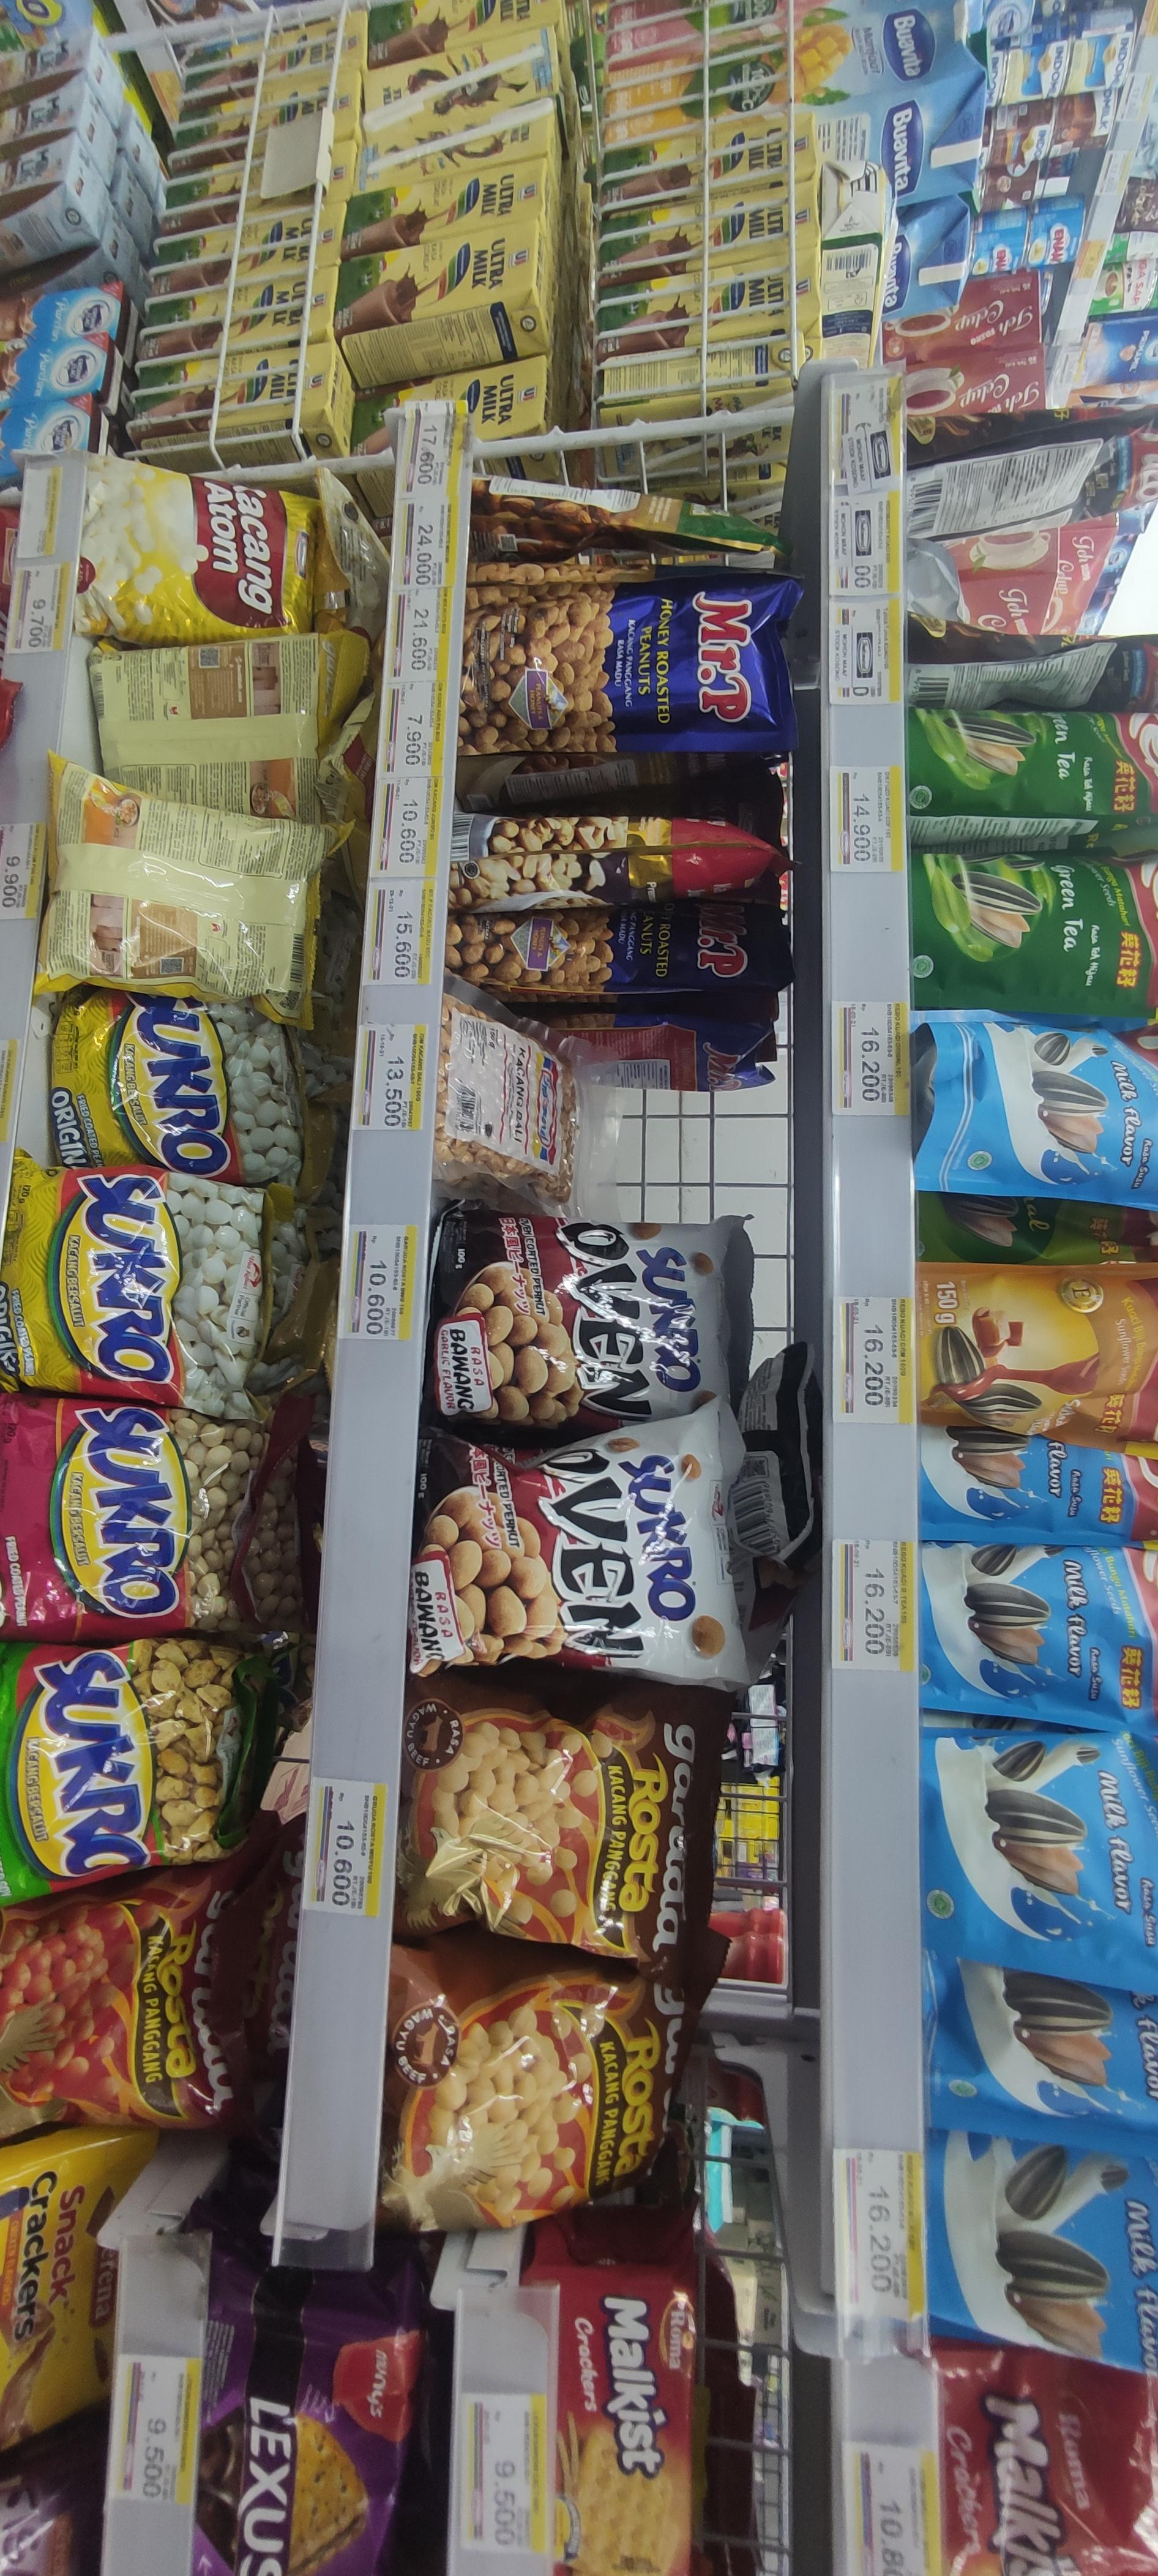90101111615100: (404, 1684, 716, 1963), (391, 1963, 703, 2242)
IndomaretKacangAtom: (36, 775, 322, 1012), (72, 641, 356, 815), (84, 452, 312, 641), (85, 453, 312, 642)
KacangSukroBBQ: (5, 1398, 264, 1641)
KacangSukroKedele: (0, 1646, 256, 1886)
KacangSukroOriginal: (7, 1153, 276, 1401), (31, 996, 310, 1173)
KacangSukroOvenBawang: (419, 1419, 742, 1676), (430, 1219, 746, 1415)
Mr.PHoneyRoastedPeanuts: (463, 583, 798, 752)
